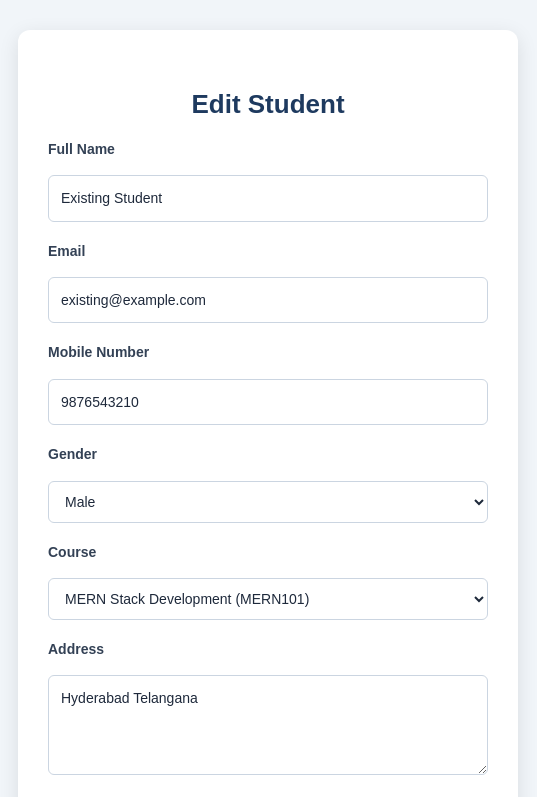
Test: StudentForm Component › should update an existing student successfully
This screenshot has width=537, height=797.
Replace the text in the field with placeholder "Enter your name" below "Full Name" with "Updated Student" at (268, 198), box [48,175,488,222]
(page scrolled)
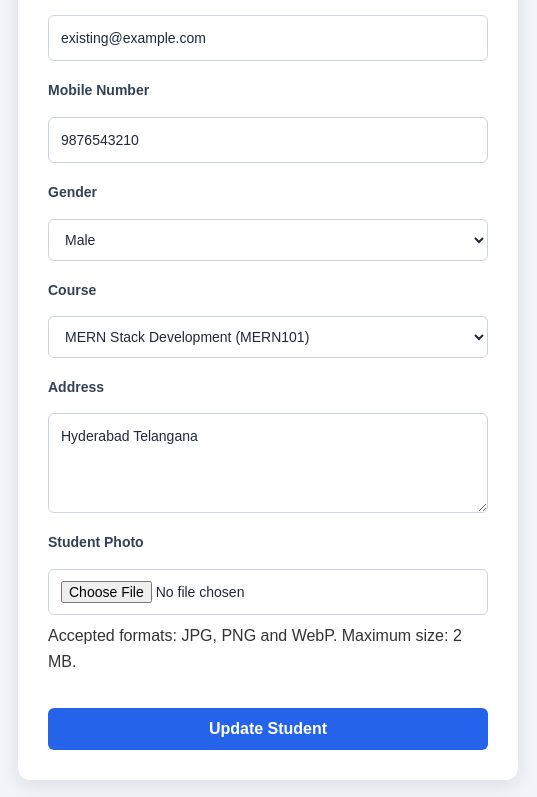
Click the button "Update Student".
click(268, 729)  # box [48,708,488,750]
(page scrolled)
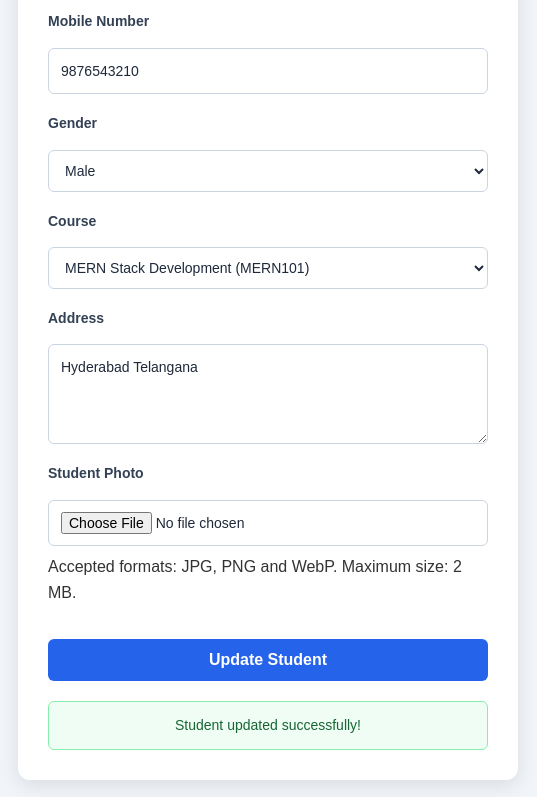
Check: the text "Student updated successfully!" is shown, box [48,701,488,750]
